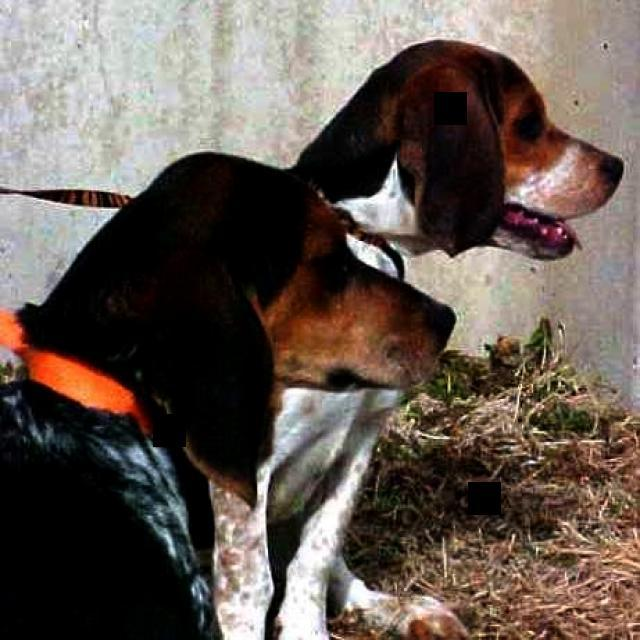adult_dog: (0, 153, 461, 639), (270, 34, 628, 640)
